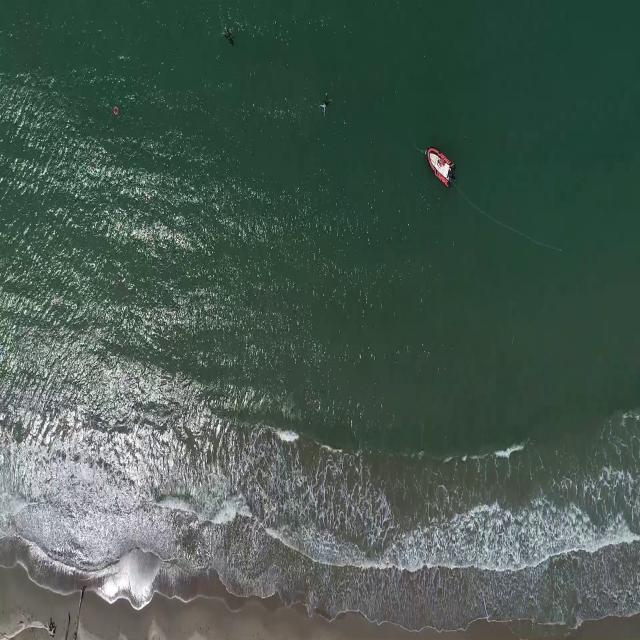boat: (426, 144, 453, 190)
life_buoy: (112, 105, 120, 116)
person: (319, 94, 333, 120), (222, 28, 237, 47)
wood: (0, 617, 61, 637), (64, 583, 85, 640)
